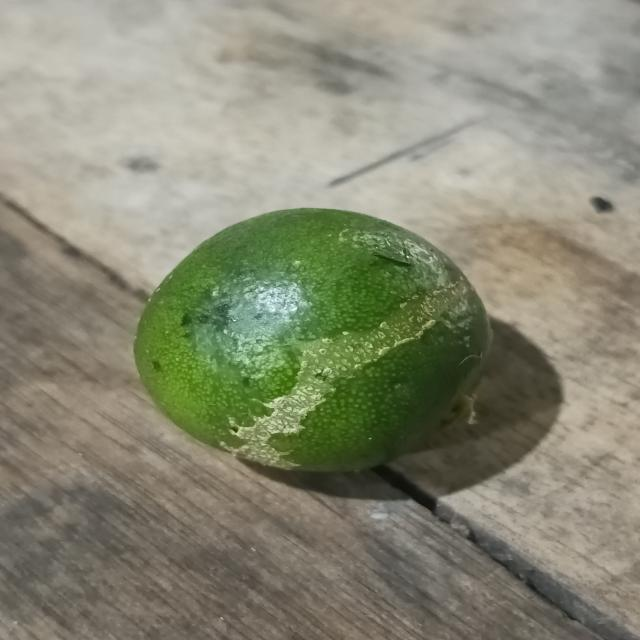thrips: (131, 210, 497, 478)
